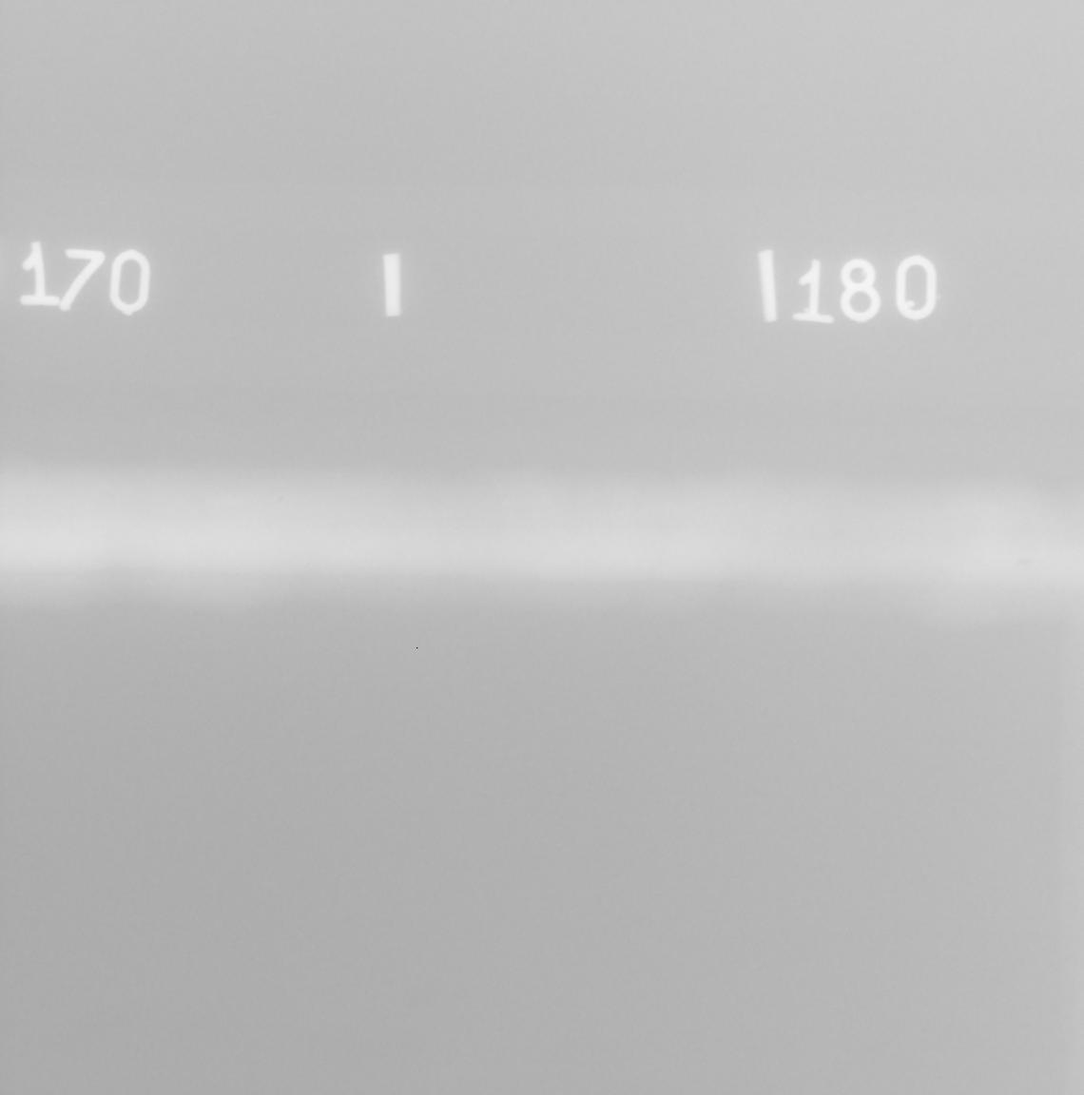Pore/Porosity: (1017, 558, 1040, 566), (277, 497, 285, 503), (939, 569, 946, 575), (975, 559, 982, 564), (109, 494, 114, 498)
